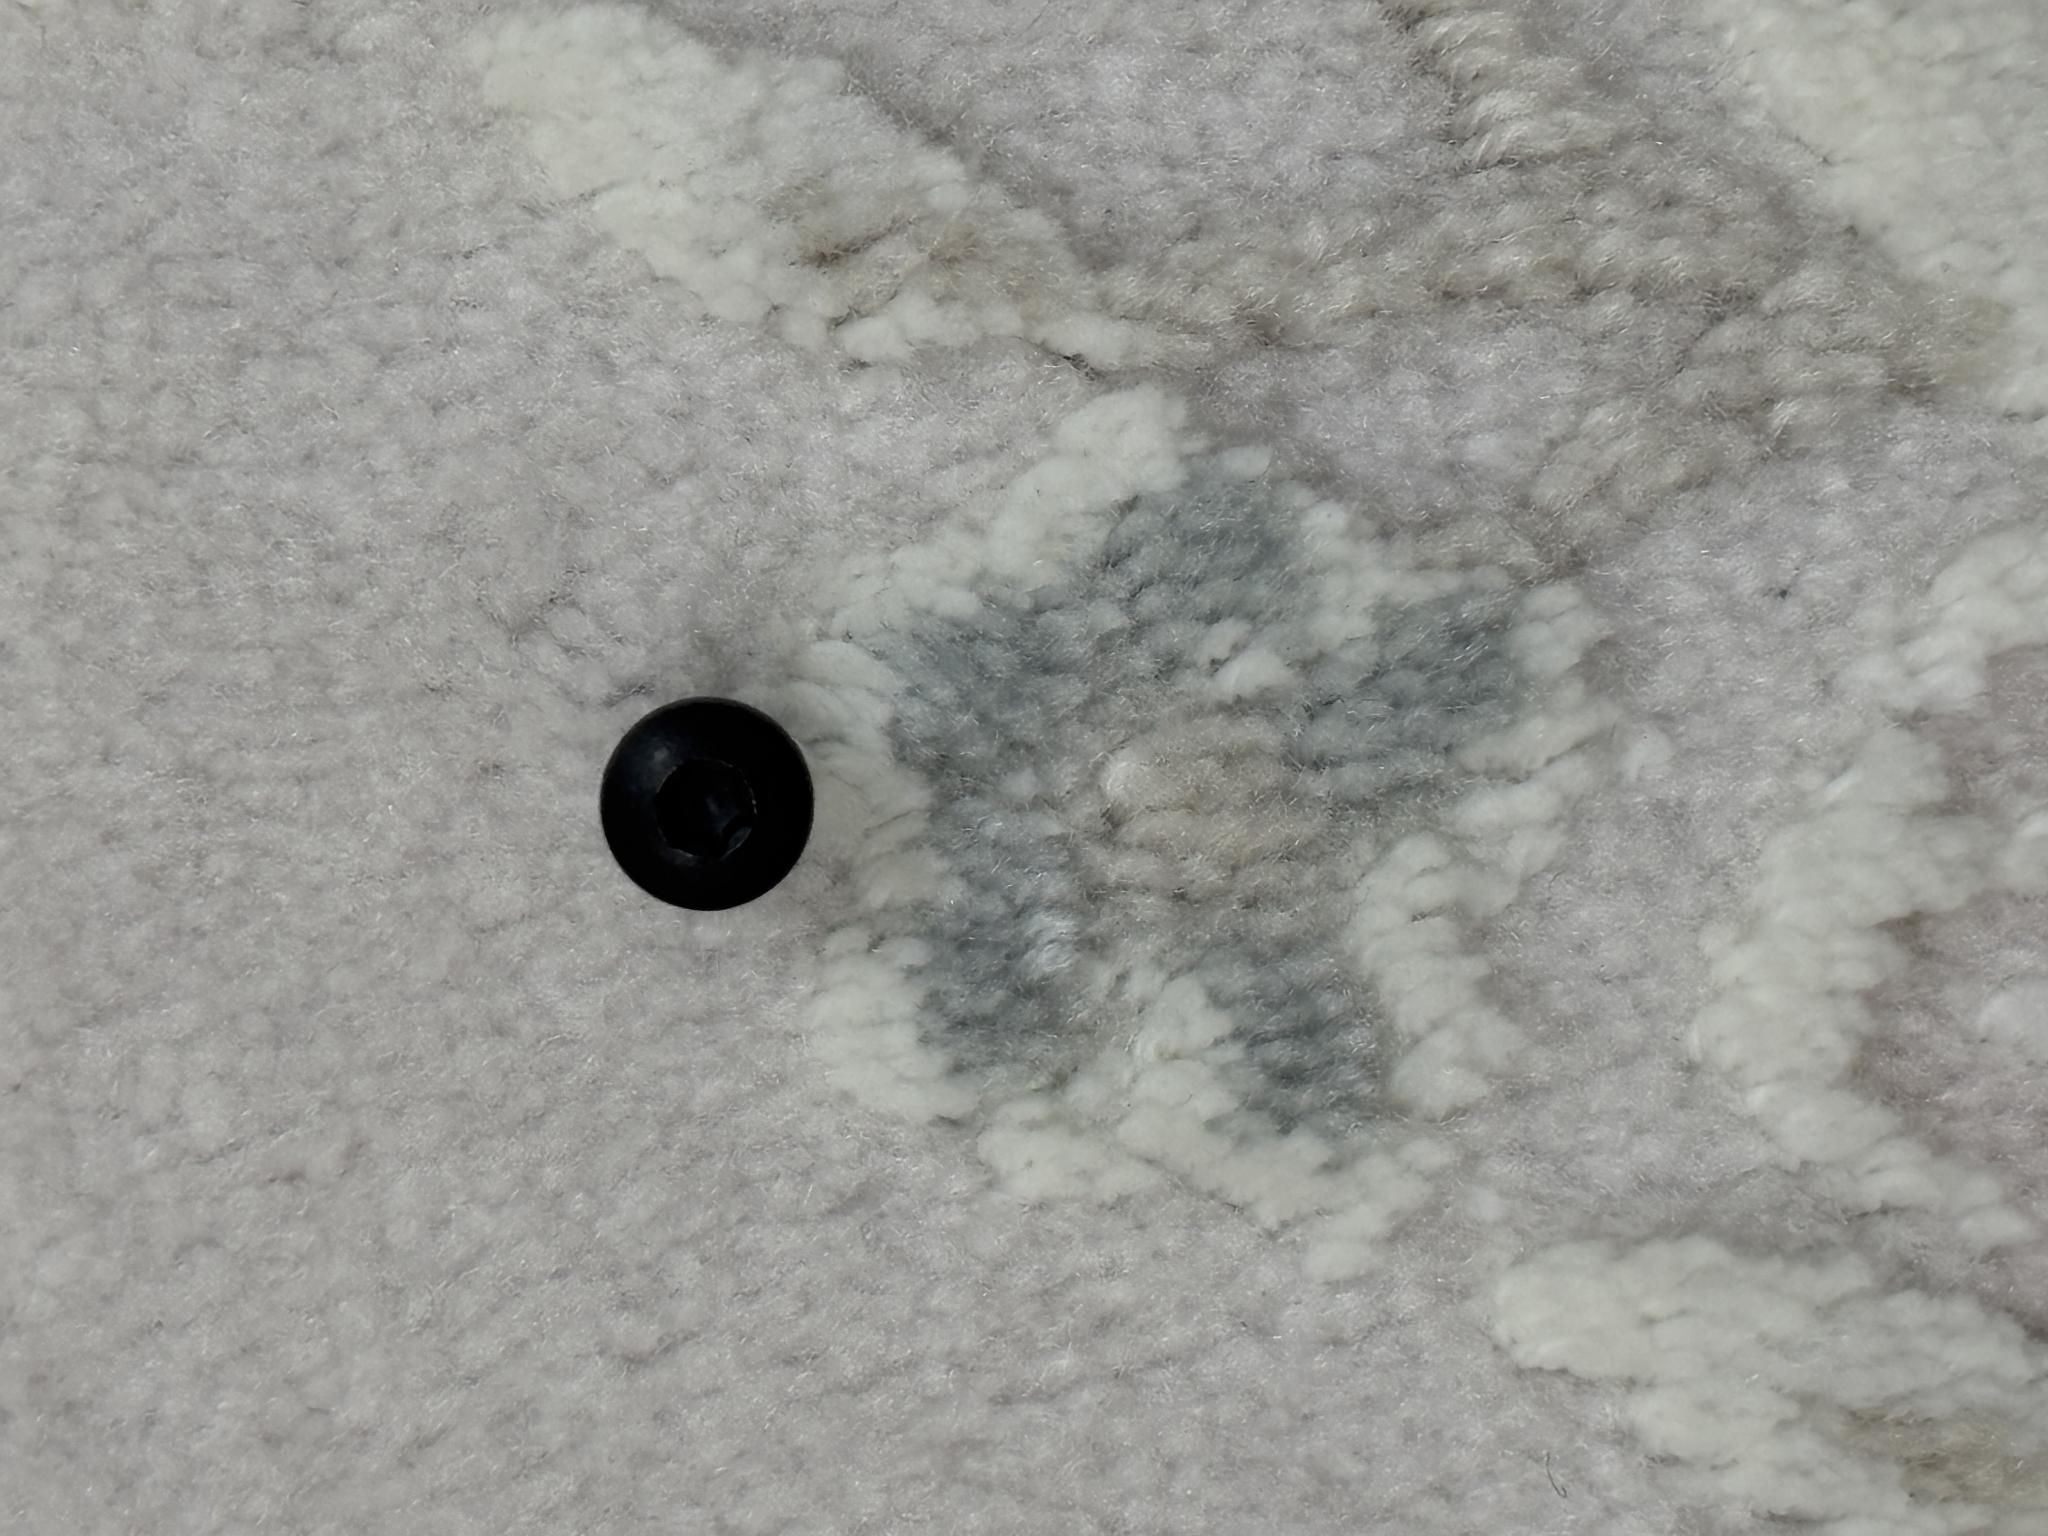H: (626, 600, 839, 813)
